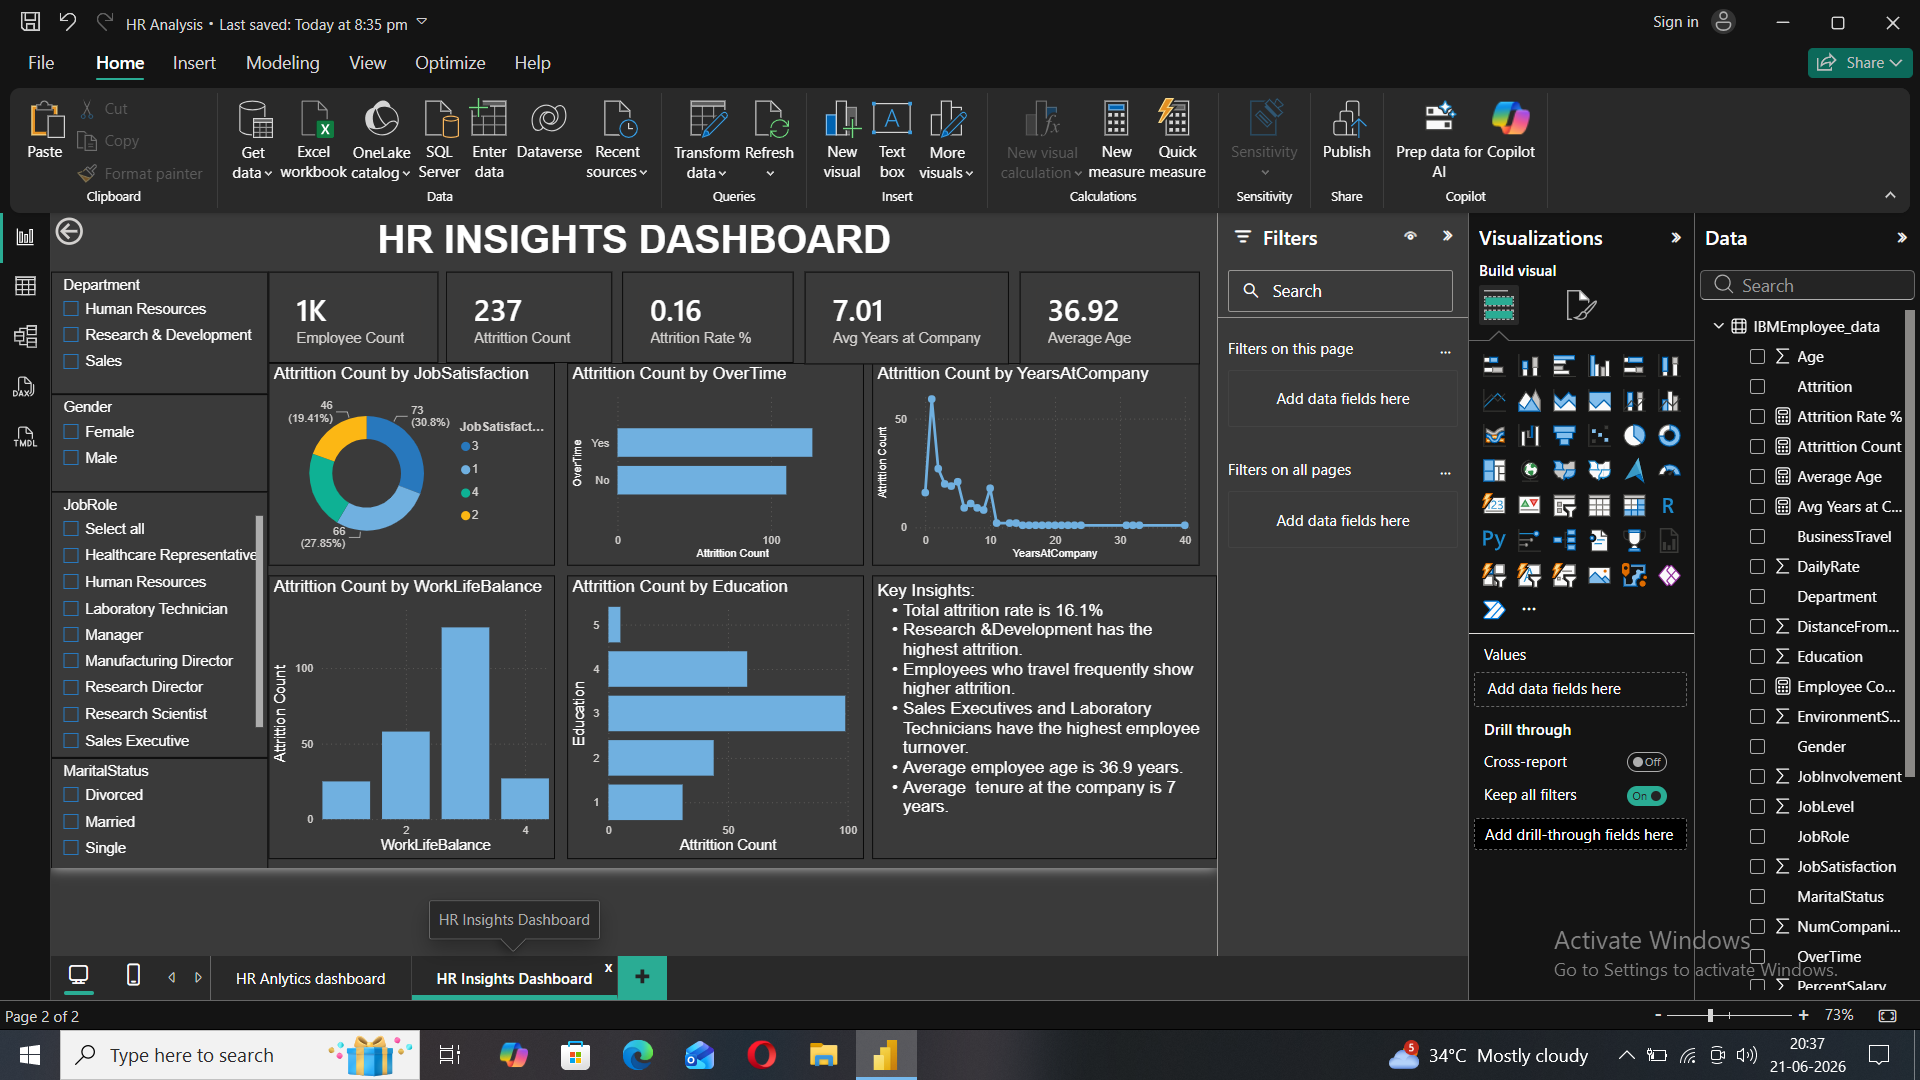

What the dashboard file says about the page in this screenshot:
{"tool":"powerbi","page":{"name":"HR Insights Dashboard","canvas":[1280,720],"ordinal":1},"visuals":[{"type":"textbox","box":[0,0,1280.3,75.5],"z":0},{"type":"cardVisual","fields":{"Data":["IBMEmployee_data.Employee Count"]},"box":[238.8,64.5,186.6,100.2],"z":1},{"type":"donutChart","fields":{"Category":["IBMEmployee_data.JobSatisfaction"],"Y":["IBMEmployee_data.Attrittion Count"]},"box":[238.8,164.7,314.2,222.3],"z":2},{"type":"clusteredBarChart","fields":{"Category":["IBMEmployee_data.OverTime"],"Y":["IBMEmployee_data.Attrittion Count"]},"box":[566.7,164.7,325.2,222.3],"z":3},{"type":"columnChart","fields":{"Category":["IBMEmployee_data.WorkLifeBalance"],"Y":["IBMEmployee_data.Attrittion Count"]},"box":[238.8,397.9,314.2,311.5],"z":4},{"type":"lineChart","fields":{"Y":["IBMEmployee_data.Attrittion Count"],"Category":["IBMEmployee_data.YearsAtCompany"]},"box":[901.5,164.7,359.5,222.3],"z":5},{"type":"barChart","fields":{"Category":["IBMEmployee_data.Education"],"Y":["IBMEmployee_data.Attrittion Count"]},"box":[566.7,397.9,325.2,311.5],"z":6},{"type":"textbox","box":[901.5,397.9,378.7,311.5],"z":7},{"type":"slicer","fields":{"Values":["IBMEmployee_data.Department"]},"box":[0,64.5,238.8,134.5],"z":8},{"type":"slicer","fields":{"Values":["IBMEmployee_data.Gender"]},"box":[0,199,238.8,107],"z":9},{"type":"slicer","fields":{"Values":["IBMEmployee_data.JobRole"]},"box":[0,306,238.8,292.3],"z":10},{"type":"slicer","fields":{"Values":["IBMEmployee_data.MaritalStatus"]},"box":[0,598.3,238.8,122.1],"z":11},{"type":"actionButton","box":[0,0,100,40],"z":12},{"type":"cardVisual","fields":{"Data":["IBMEmployee_data.Attrittion Count"]},"box":[433.6,64.5,182.5,100.2],"z":13},{"type":"cardVisual","fields":{"Data":["IBMEmployee_data.Attrition Rate %"]},"box":[627.1,64.5,188,100.2],"z":14},{"type":"cardVisual","fields":{"Data":["IBMEmployee_data.Avg Years at Company"]},"box":[827.4,64.5,223.7,101.5],"z":15},{"type":"cardVisual","fields":{"Data":["IBMEmployee_data.Average Age"]},"box":[1063.5,64.5,197.6,101.5],"z":16}]}

Visuals, with their boxes on the page's 1280x720 design canvas (x1, y1, x2, y2). These are canvas units, not pixel positions in the 1920x1080 screenshot, which may show the page scaled, cropped or inside an application window:
textbox: x1=0 y1=0 x2=1280 y2=76
cardVisual - IBMEmployee_data.Employee Count: x1=239 y1=64 x2=425 y2=165
donutChart - IBMEmployee_data.JobSatisfaction x IBMEmployee_data.Attrittion Count: x1=239 y1=165 x2=553 y2=387
clusteredBarChart - IBMEmployee_data.OverTime x IBMEmployee_data.Attrittion Count: x1=567 y1=165 x2=892 y2=387
columnChart - IBMEmployee_data.WorkLifeBalance x IBMEmployee_data.Attrittion Count: x1=239 y1=398 x2=553 y2=709
lineChart - IBMEmployee_data.Attrittion Count x IBMEmployee_data.YearsAtCompany: x1=902 y1=165 x2=1261 y2=387
barChart - IBMEmployee_data.Education x IBMEmployee_data.Attrittion Count: x1=567 y1=398 x2=892 y2=709
textbox: x1=902 y1=398 x2=1280 y2=709
slicer - IBMEmployee_data.Department: x1=0 y1=64 x2=239 y2=199
slicer - IBMEmployee_data.Gender: x1=0 y1=199 x2=239 y2=306
slicer - IBMEmployee_data.JobRole: x1=0 y1=306 x2=239 y2=598
slicer - IBMEmployee_data.MaritalStatus: x1=0 y1=598 x2=239 y2=720
actionButton: x1=0 y1=0 x2=100 y2=40
cardVisual - IBMEmployee_data.Attrittion Count: x1=434 y1=64 x2=616 y2=165
cardVisual - IBMEmployee_data.Attrition Rate %: x1=627 y1=64 x2=815 y2=165
cardVisual - IBMEmployee_data.Avg Years at Company: x1=827 y1=64 x2=1051 y2=166
cardVisual - IBMEmployee_data.Average Age: x1=1064 y1=64 x2=1261 y2=166
